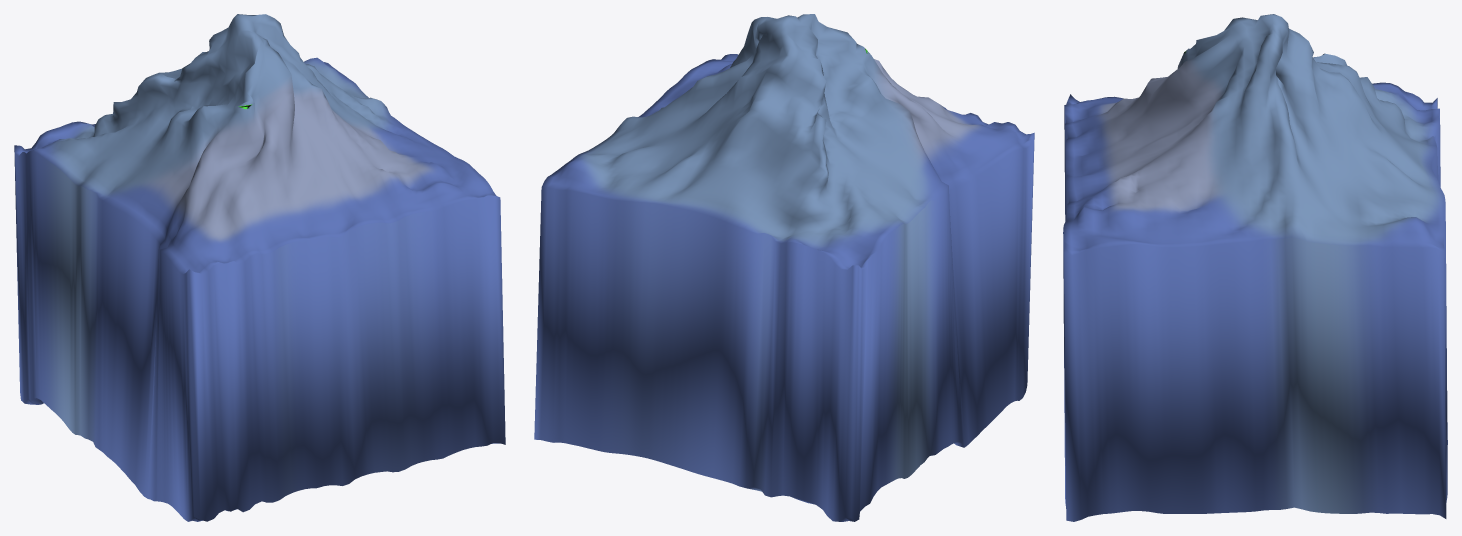
The model's file is MountainIsland_groud1.glb.
3 views of the same model, side by side, from view 1: azimuth 30°, elevation 25°; view 2: azimuth 150°, elevation 25°; view 3: azimuth 270°, elevation 25° (orthographic). The views are drawn at different scales.
Parts seen in each view (by area): view 1: グリッド; view 2: グリッド; view 3: グリッド.
Part boxes in pixels (<box>): グリッド: <box>14,14,505,521</box>; グリッド: <box>534,14,1034,521</box>; グリッド: <box>1063,14,1447,521</box>.
Size of the model in its own units: 40.79 by 50.98 by 40.19.
Materials: 1 (1 with a texture image).
